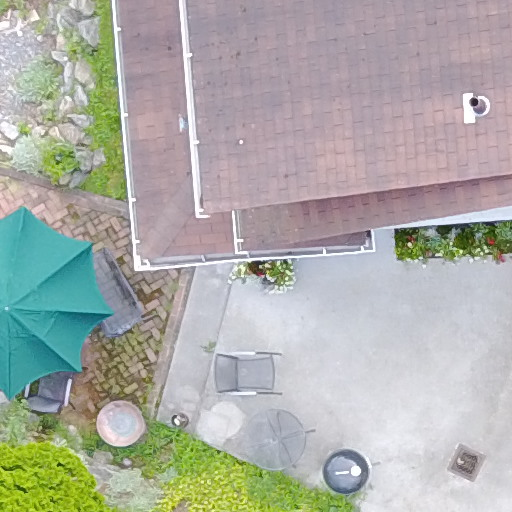flower pot: (238, 259, 284, 277)
